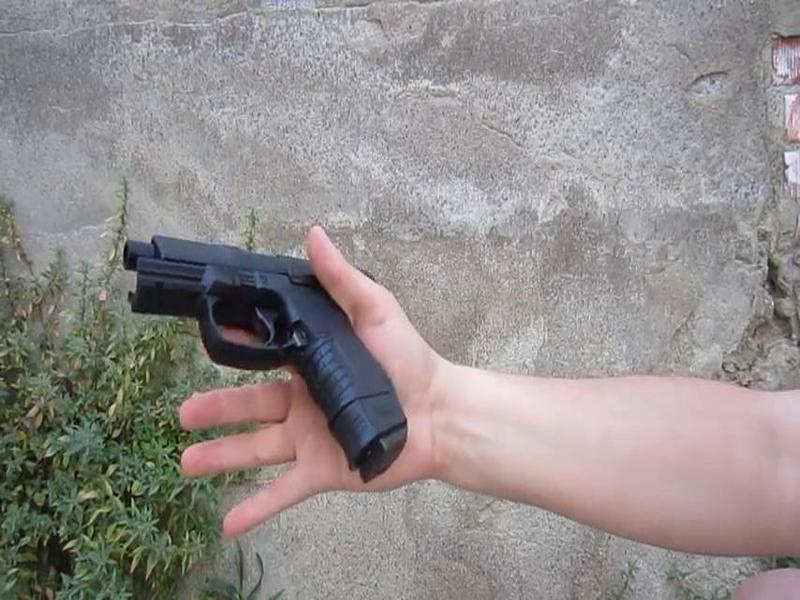Pistola: (118, 228, 410, 491)
